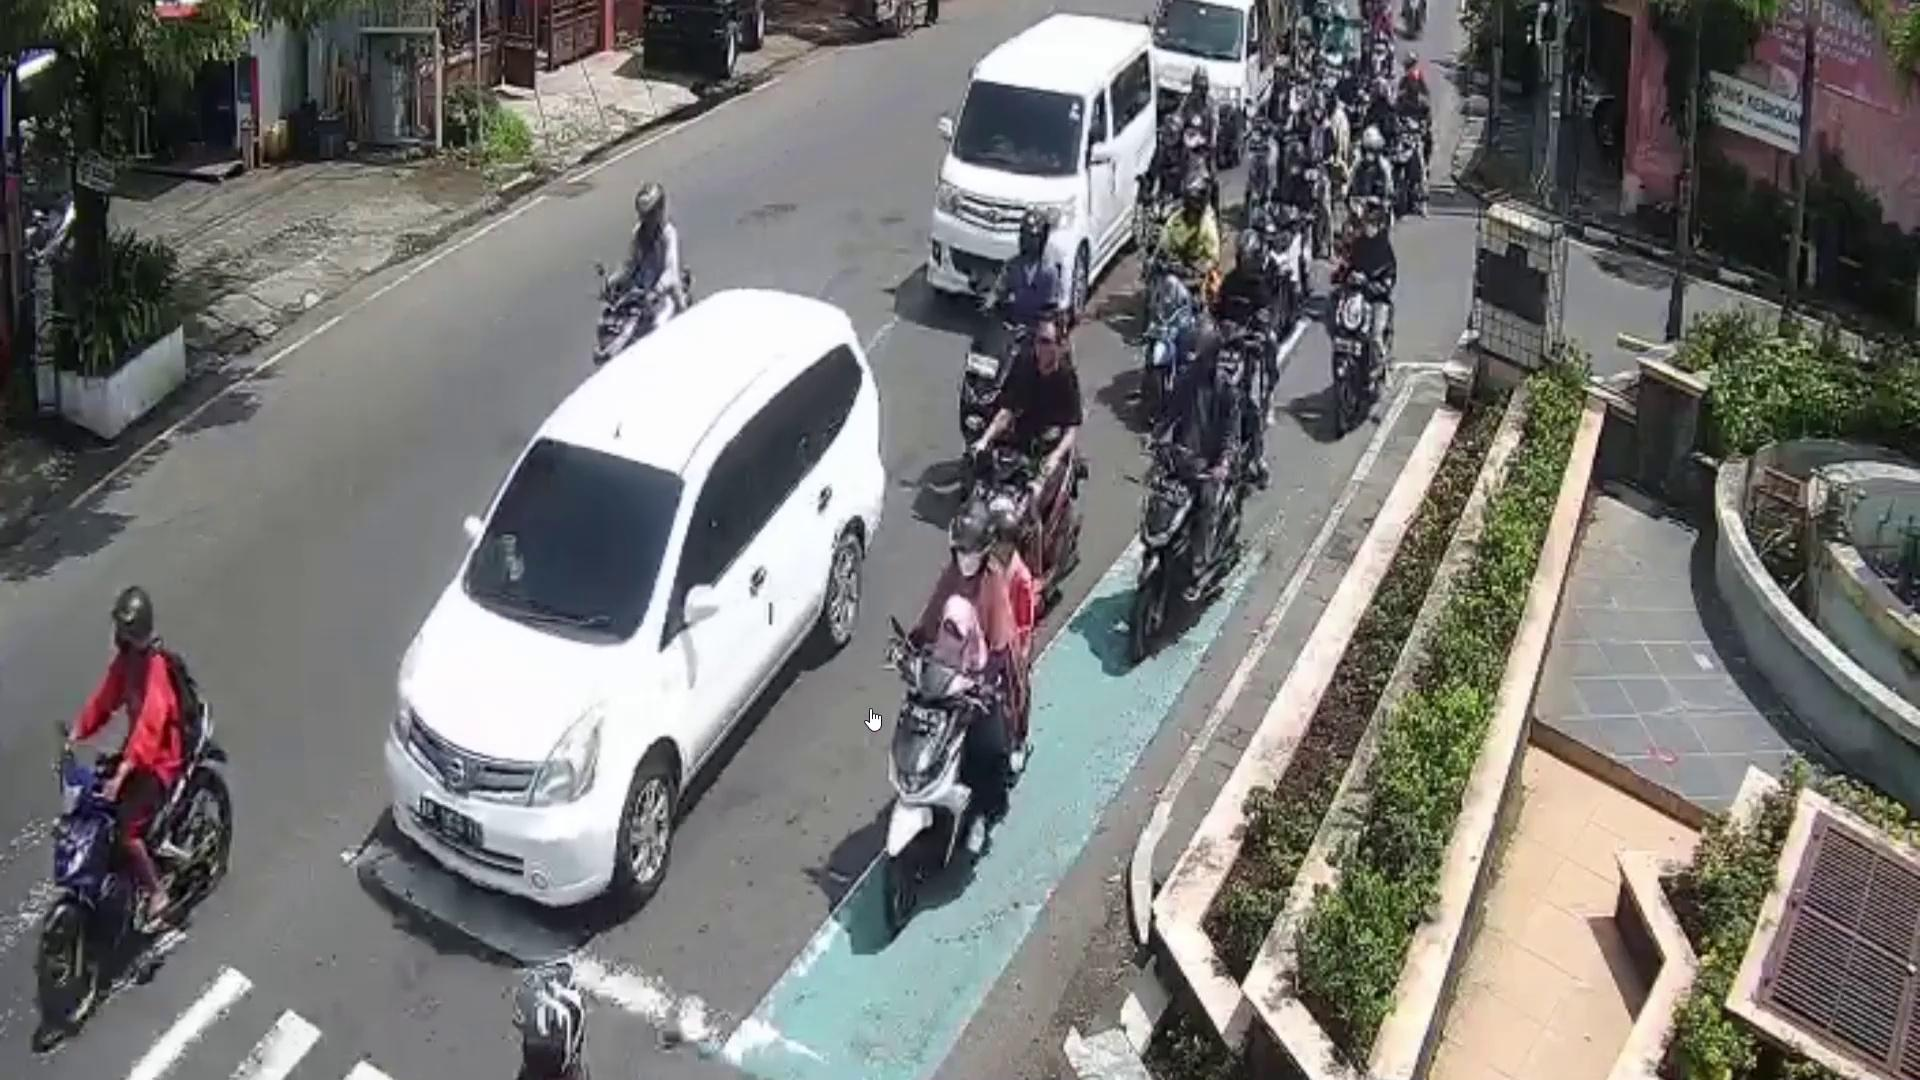car: (385, 286, 885, 902), (927, 11, 1155, 314), (1151, 0, 1286, 121)
motorbike: (41, 699, 236, 1036), (884, 649, 972, 930), (1127, 435, 1197, 663), (1329, 266, 1377, 440)
